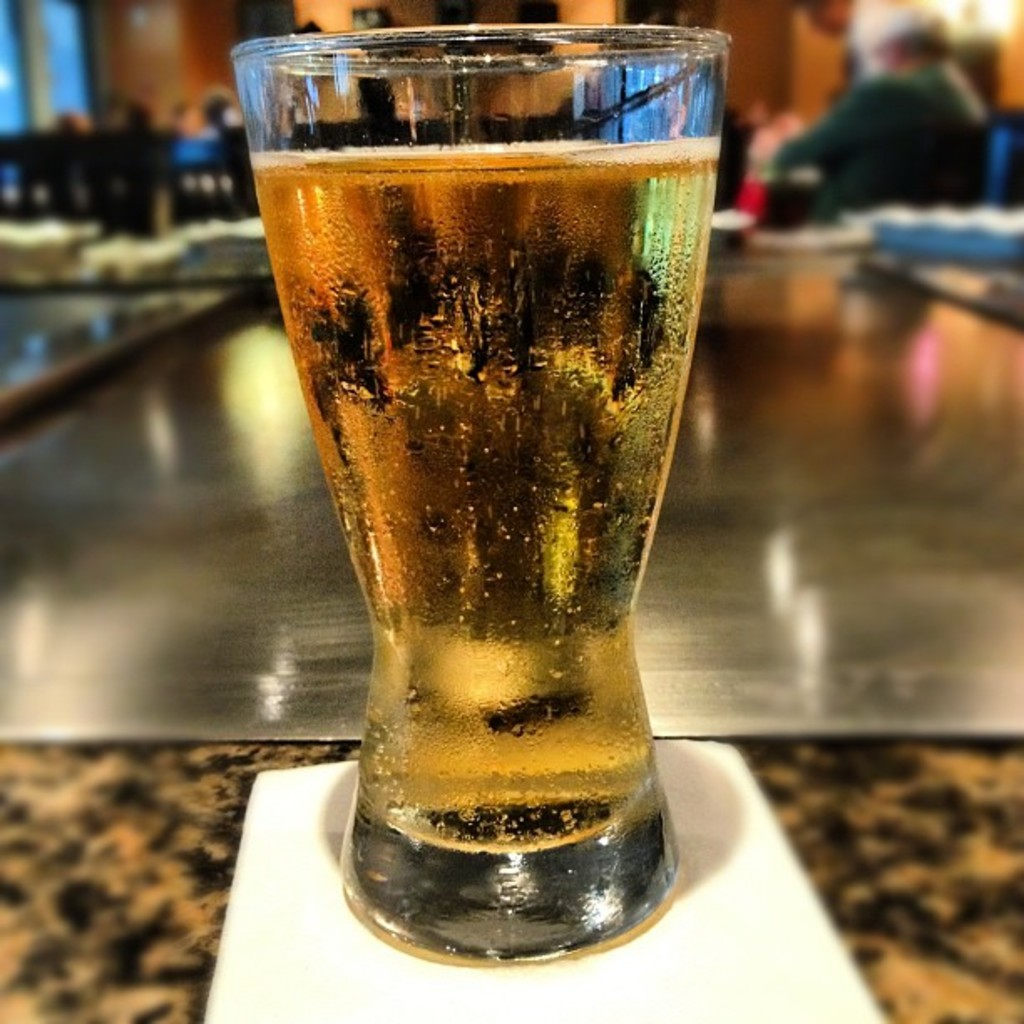Beer: (266, 140, 711, 858)
